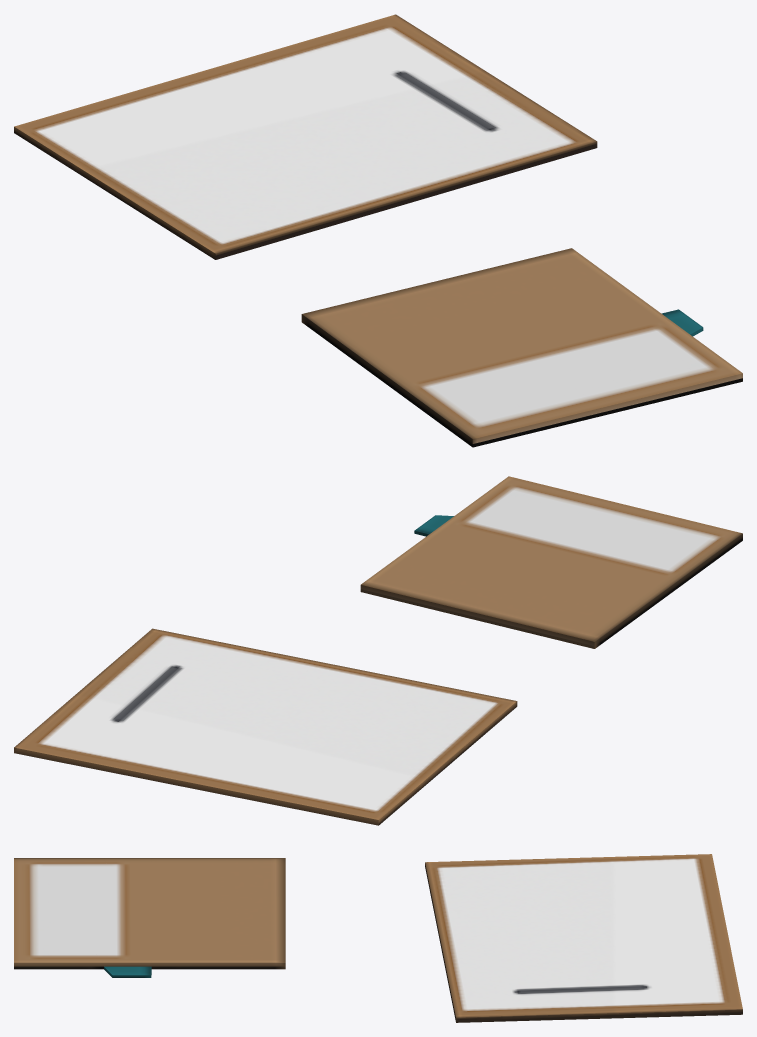
The model's file is Tx_prop_files_18.fbx.
3 views of the same model, one above another, from view 1: azimuth 30°, elevation 25°; view 2: azimuth 150°, elevation 25°; view 3: azimuth 270°, elevation 25° (orthographic). The views are drawn at different scales.
Visible parts, largest first — view 1: Tx_prop_files_11; view 2: Tx_prop_files_11; view 3: Tx_prop_files_11.
Boxes of the visible parts, box(x1,y1,x2,y2) form: Tx_prop_files_11: box(14, 14, 742, 447); Tx_prop_files_11: box(14, 476, 742, 825); Tx_prop_files_11: box(14, 854, 742, 1022).
Size of the model in its own units: 2.66 by 0.0651 by 5.
